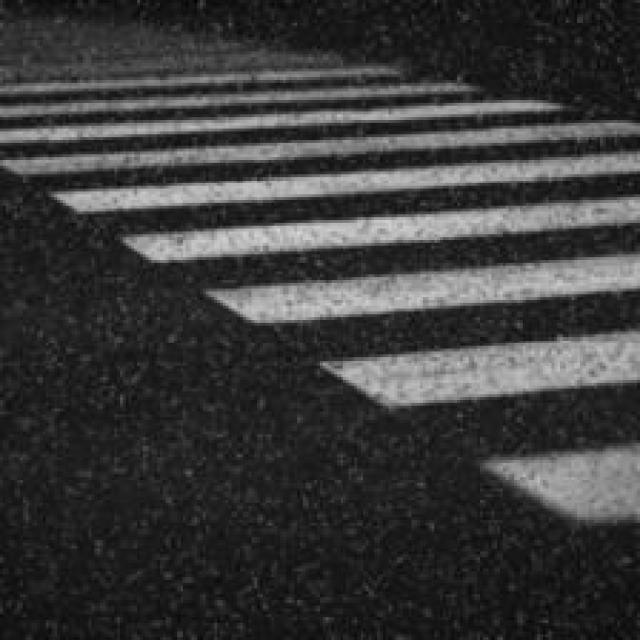obstacle: (13, 36, 640, 544)
